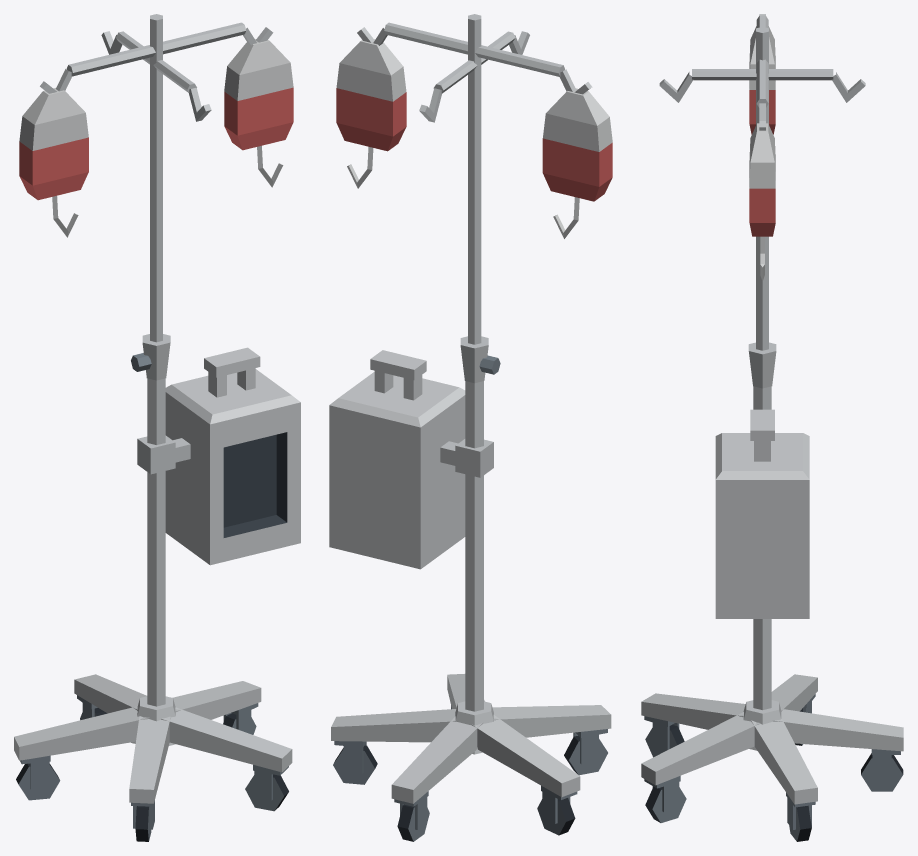
Rendered from iv-drip-stand-20ab17.glb.
3 renders of one model, left to right at view 1: azimuth 30°, elevation 25°; view 2: azimuth 150°, elevation 25°; view 3: azimuth 270°, elevation 25°, orthographic. The views are drawn at different scales.
Visible parts, largest first — view 1: iv-drip-stand, pump-box, bag-2, bag-1, wheel-4, wheel-1, caster-4, caster-1; view 2: iv-drip-stand, pump-box, bag-2, bag-1, wheel-3, wheel-2, wheel-4, caster-3, caster-2, wheel-5, caster-4; view 3: iv-drip-stand, pump-box, bag-1, bag-2, wheel-5, wheel-1, caster-5, caster-2, caster-1, wheel-3.
Boxes of the visible parts, left/top/right/bottom form: iv-drip-stand: left=14, top=14, right=292, bottom=803; pump-box: left=165, top=347, right=300, bottom=565; bag-2: left=19, top=88, right=88, bottom=237; bag-1: left=224, top=39, right=293, bottom=187; wheel-4: left=16, top=763, right=60, bottom=800; wheel-1: left=245, top=774, right=288, bottom=811; caster-4: left=20, top=755, right=50, bottom=789; caster-1: left=253, top=765, right=288, bottom=800; iv-drip-stand: left=331, top=14, right=611, bottom=803; pump-box: left=329, top=350, right=465, bottom=569; bag-2: left=542, top=88, right=612, bottom=238; bag-1: left=336, top=39, right=406, bottom=188; wheel-3: left=333, top=745, right=377, bottom=784; wheel-2: left=564, top=735, right=607, bottom=775; wheel-4: left=537, top=798, right=575, bottom=835; caster-3: left=334, top=741, right=366, bottom=773; caster-2: left=573, top=729, right=607, bottom=764; wheel-5: left=397, top=804, right=429, bottom=841; caster-4: left=541, top=785, right=577, bottom=823; iv-drip-stand: left=641, top=14, right=903, bottom=804; pump-box: left=715, top=409, right=809, bottom=618; bag-1: left=749, top=123, right=775, bottom=281; bag-2: left=749, top=26, right=775, bottom=134; wheel-5: left=861, top=753, right=903, bottom=791; wheel-1: left=645, top=786, right=686, bottom=822; caster-5: left=871, top=749, right=900, bottom=780; caster-2: left=644, top=716, right=679, bottom=751; caster-1: left=644, top=776, right=680, bottom=812; wheel-3: left=789, top=806, right=811, bottom=841.
Bounding box in the file's own units: 0.632 × 1.78 × 0.558.
